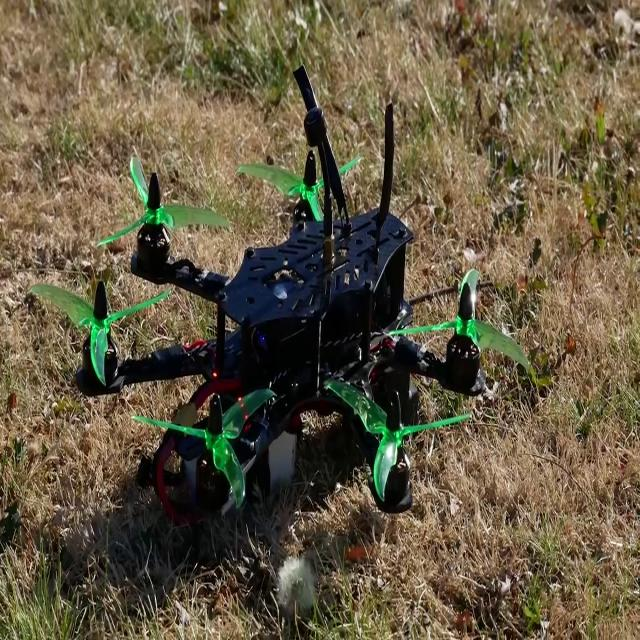drone: (33, 85, 512, 594)
